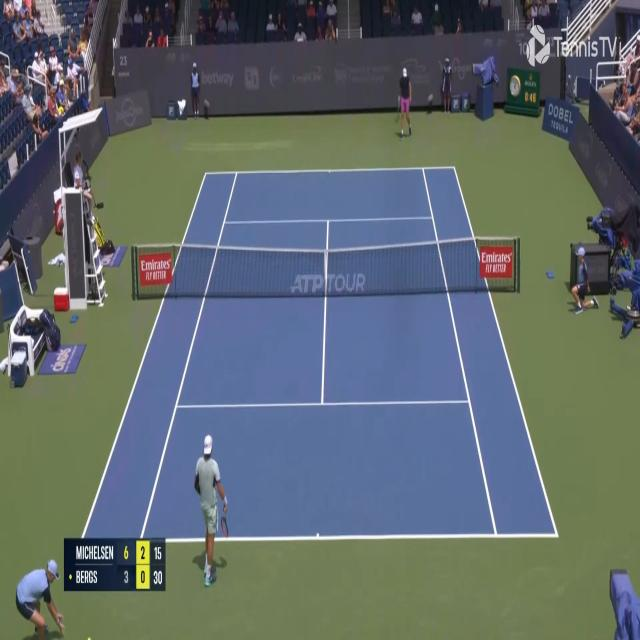tennis-player: (193, 432, 231, 588), (394, 66, 413, 140)
